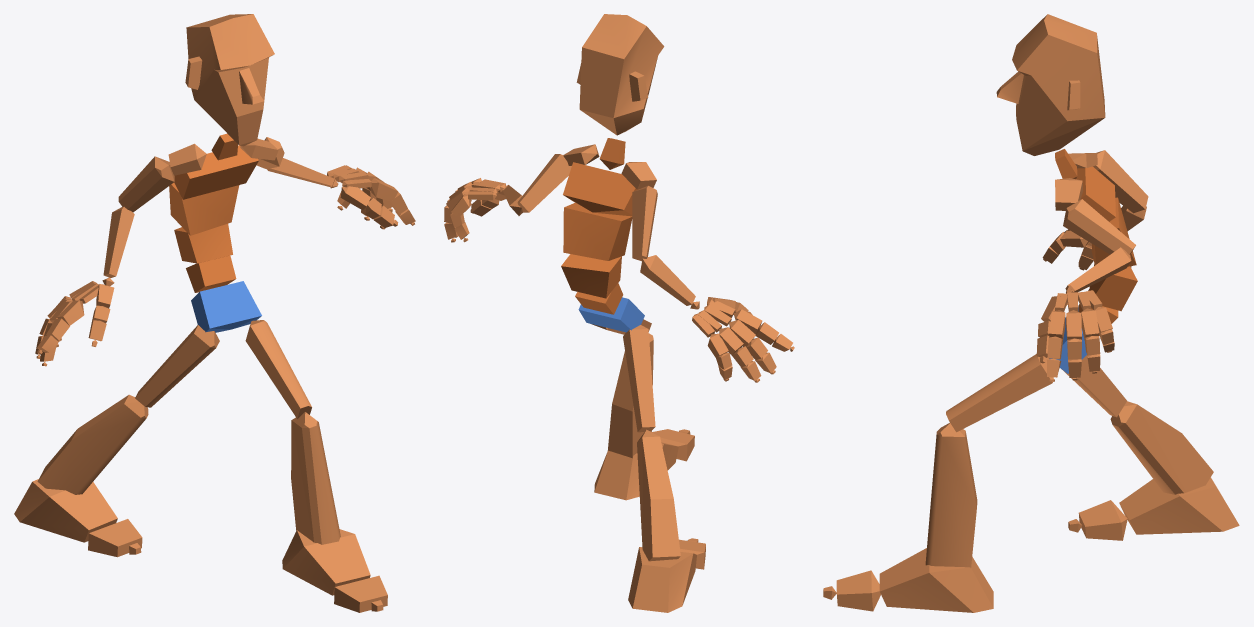
3 views of the same model, side by side, from view 1: azimuth 30°, elevation 25°; view 2: azimuth 150°, elevation 25°; view 3: azimuth 270°, elevation 25° (orthographic). The views are drawn at different scales.
Visible parts, largest first — view 1: BOPED_Head, BOPED_R_leg, BOPED_L_leg, BOPED_R_foot, BOPED_R_foot01, Bone01, BOPED_R_legup, BOPED_L_legup, Bone04, Bone05, Bone03, BOPED_R_arm_upper (+7 smaller); view 2: BOPED_Head, BOPED_R_leg, BOPED_R_foot, Bone04, Bone05, BOPED_R_legup, BOPED_L_leg, BOPED_R_foot01, Bone03, BOPED_R_arm_upper, BOPED_L_arm_upper, Bone01 (+6 smaller); view 3: BOPED_Head, BOPED_L_leg, BOPED_R_foot01, BOPED_R_leg, BOPED_R_foot, BOPED_L_legup, BOPED_L_arm_upper, BOPED_R_foot_toe01, BOPED_R_arm_upper, BOPED_R_foot_toe04, BOPED_R_legup, Bone05 (+4 smaller).
Part boxes in pixels (x1,y1,x2,y2): BOPED_Head: [185, 14, 274, 146]; BOPED_R_leg: [37, 394, 148, 494]; BOPED_L_leg: [291, 412, 340, 544]; BOPED_R_foot: [14, 479, 117, 542]; BOPED_R_foot01: [282, 529, 370, 595]; Bone01: [191, 281, 261, 332]; BOPED_R_legup: [135, 325, 219, 407]; BOPED_L_legup: [245, 320, 311, 418]; Bone04: [169, 182, 239, 235]; Bone05: [174, 145, 258, 199]; Bone03: [174, 223, 232, 263]; BOPED_R_arm_upper: [118, 156, 174, 212]; BOPED_Head: [576, 14, 664, 135]; BOPED_R_leg: [637, 429, 680, 561]; BOPED_R_foot: [628, 547, 696, 612]; Bone04: [563, 203, 632, 260]; Bone05: [563, 162, 638, 216]; BOPED_R_legup: [623, 325, 655, 432]; BOPED_L_leg: [607, 333, 653, 458]; BOPED_R_foot01: [594, 442, 678, 500]; Bone03: [561, 254, 621, 298]; BOPED_R_arm_upper: [632, 185, 657, 261]; BOPED_L_arm_upper: [517, 154, 571, 212]; Bone01: [578, 297, 644, 332]; BOPED_Head: [996, 14, 1105, 155]; BOPED_L_leg: [925, 423, 977, 567]; BOPED_R_foot01: [879, 548, 993, 612]; BOPED_R_leg: [1110, 401, 1213, 494]; BOPED_R_foot: [1119, 477, 1239, 534]; BOPED_L_legup: [946, 354, 1053, 432]; BOPED_L_arm_upper: [1063, 199, 1135, 254]; BOPED_R_foot_toe01: [1078, 500, 1127, 540]; BOPED_R_arm_upper: [1093, 150, 1148, 213]; BOPED_R_foot_toe04: [836, 570, 880, 611]; BOPED_R_legup: [1061, 355, 1126, 417]; Bone05: [1076, 166, 1115, 221].
Bounding box in the file's own units: 130 × 178 × 121.
